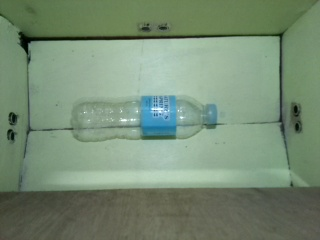bottle: (69, 92, 219, 141)
